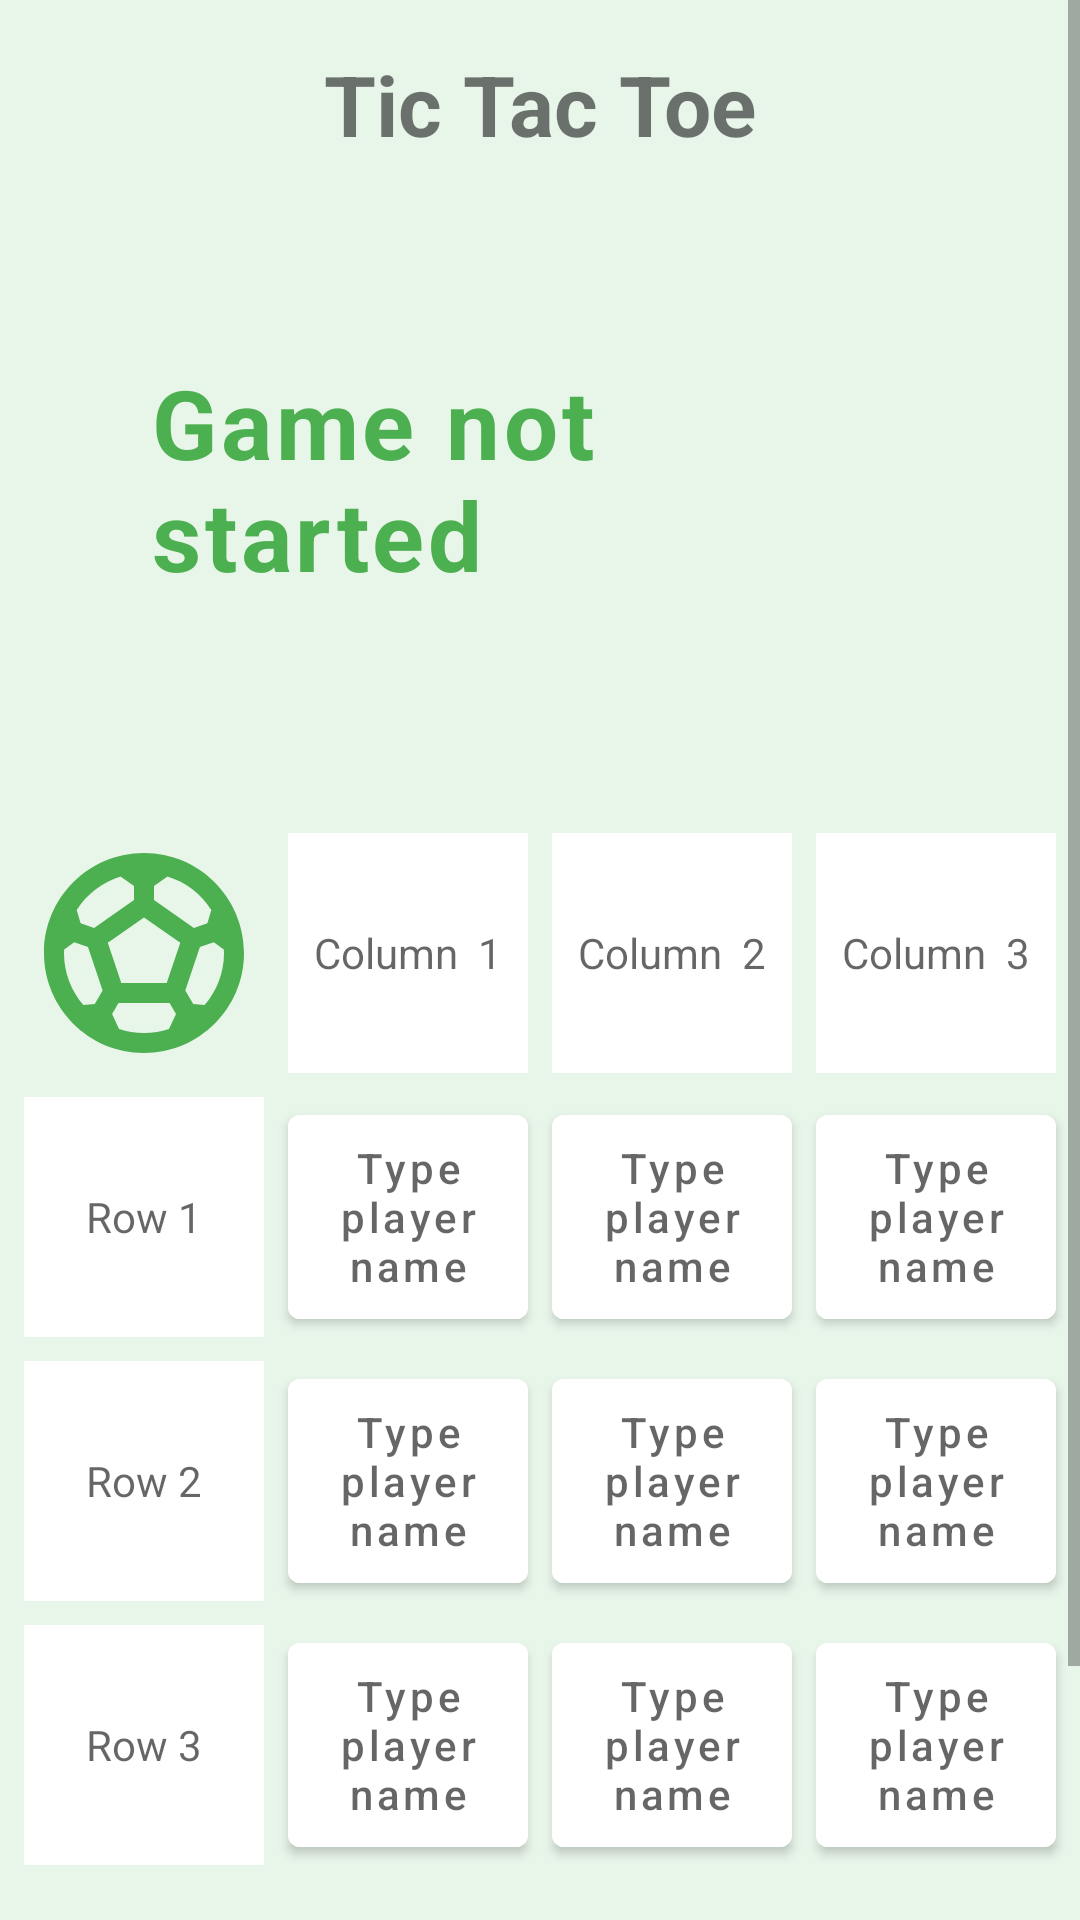

Icons on this 1080×1920 Android screen, each with its box as (x1, y1, x2, y2):
sports soccer: (44, 853, 244, 1053)
